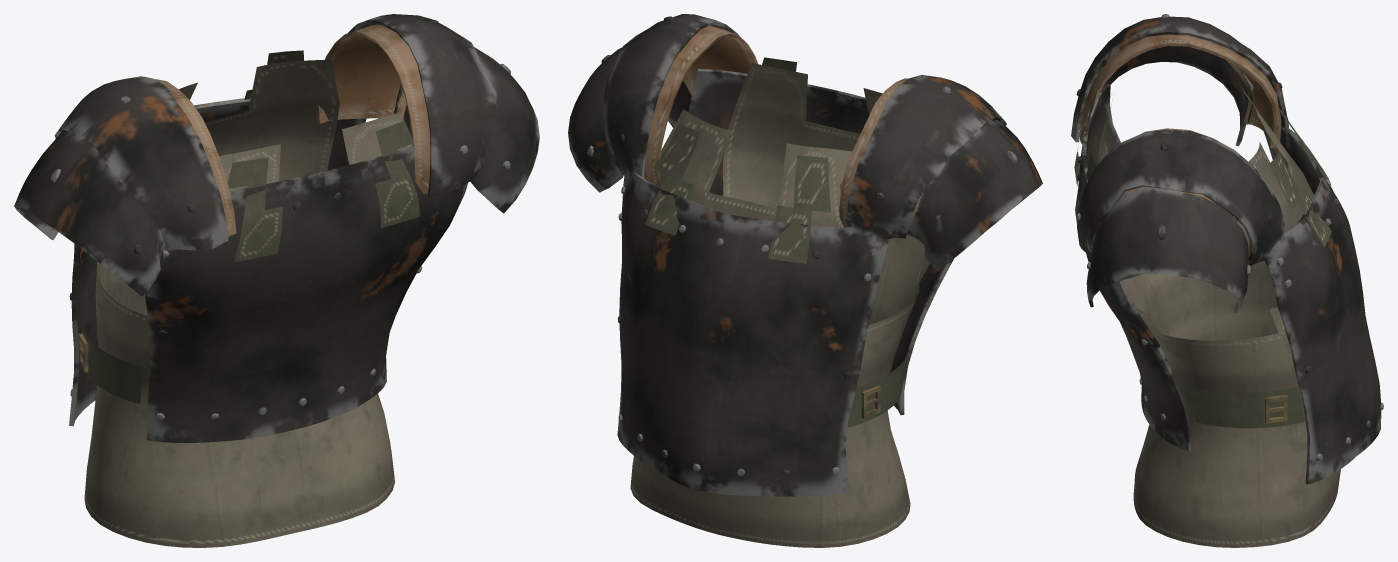
The model's file is armor_chest_display.glb.
3 views of the same model, side by side, from view 1: azimuth 30°, elevation 25°; view 2: azimuth 150°, elevation 25°; view 3: azimuth 270°, elevation 25° (orthographic). The views are drawn at different scales.
Visible parts, largest first — view 1: armor_chest; view 2: armor_chest; view 3: armor_chest.
Boxes of the visible parts, box(x1,y1,x2,y2) form: armor_chest: box(14, 14, 539, 547); armor_chest: box(568, 14, 1042, 547); armor_chest: box(1071, 14, 1383, 547).
Bounding box in the file's own units: 0.6191 × 0.5586 × 0.3869.
1 material, 1 textured.
